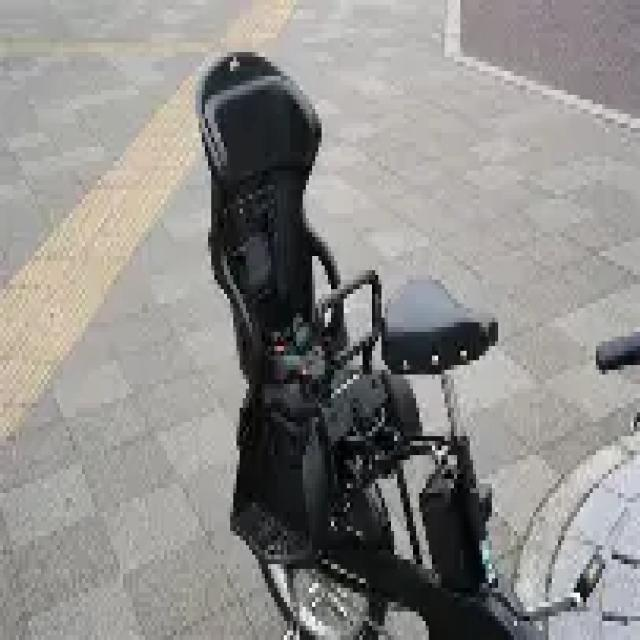battery: (420, 477, 483, 588)
childseat: (200, 48, 432, 569)
